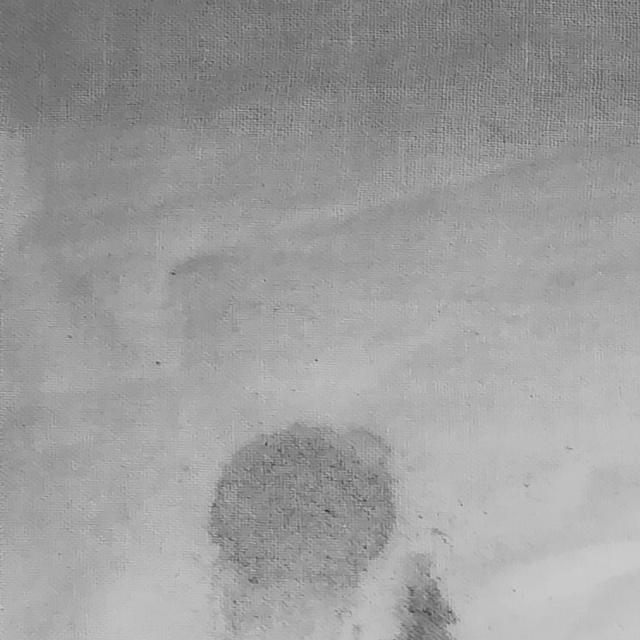Stain: (204, 416, 396, 640), (398, 557, 464, 640)
